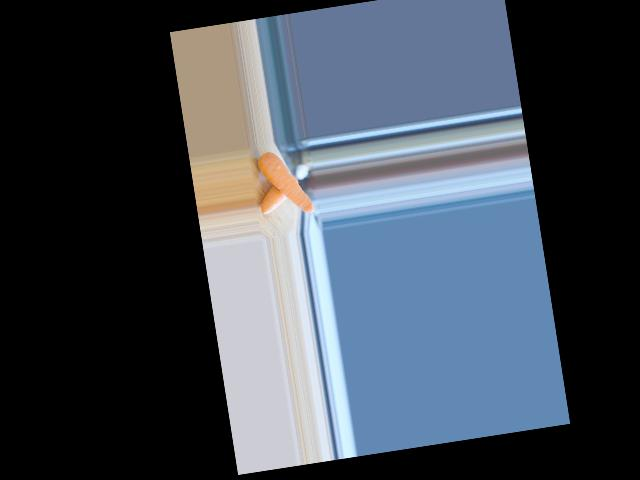carrot: (256, 173, 301, 213)
